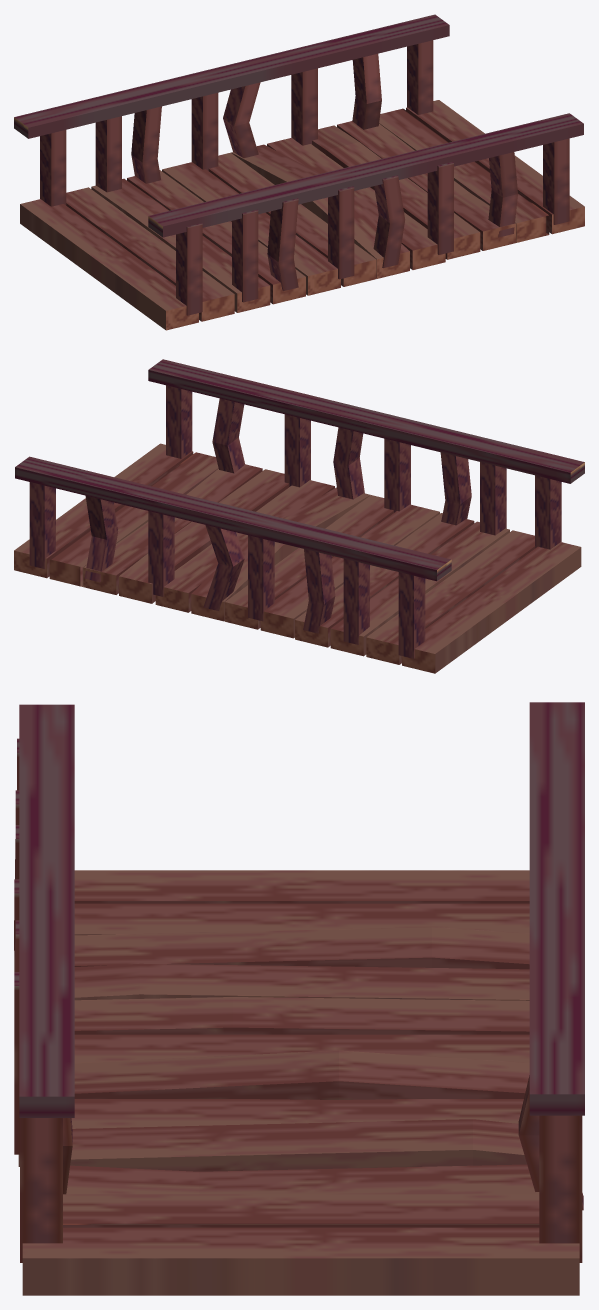
Rendered from Ponte.fbx.
The picture shows the model from 3 angles, top to bottom: view 1: azimuth 30°, elevation 25°; view 2: azimuth 150°, elevation 25°; view 3: azimuth 270°, elevation 25°; orthographic projection. The views are drawn at different scales.
Parts seen in each view (by area): view 1: Ponte; view 2: Ponte; view 3: Ponte.
Part boxes in pixels (x1,y1,x2,y2): Ponte: [14, 14, 584, 330]; Ponte: [14, 359, 584, 673]; Ponte: [14, 702, 584, 1295].
Size of the model in its own units: 897 by 549 by 218.
